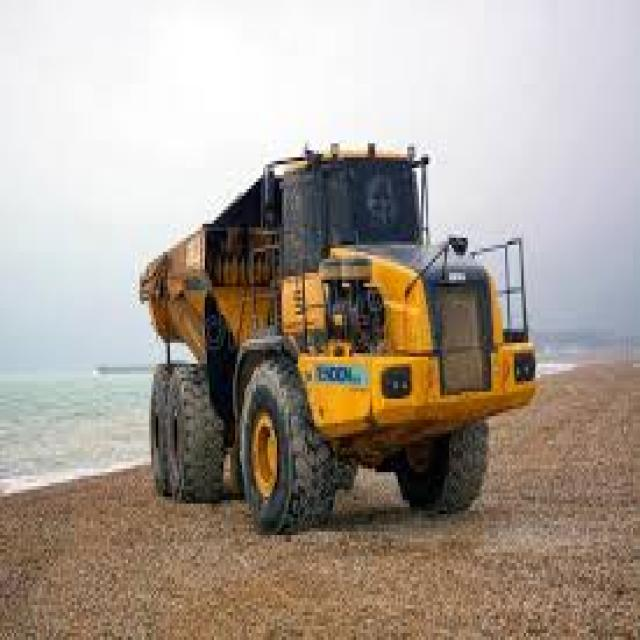dump_truck: (121, 136, 554, 535)
